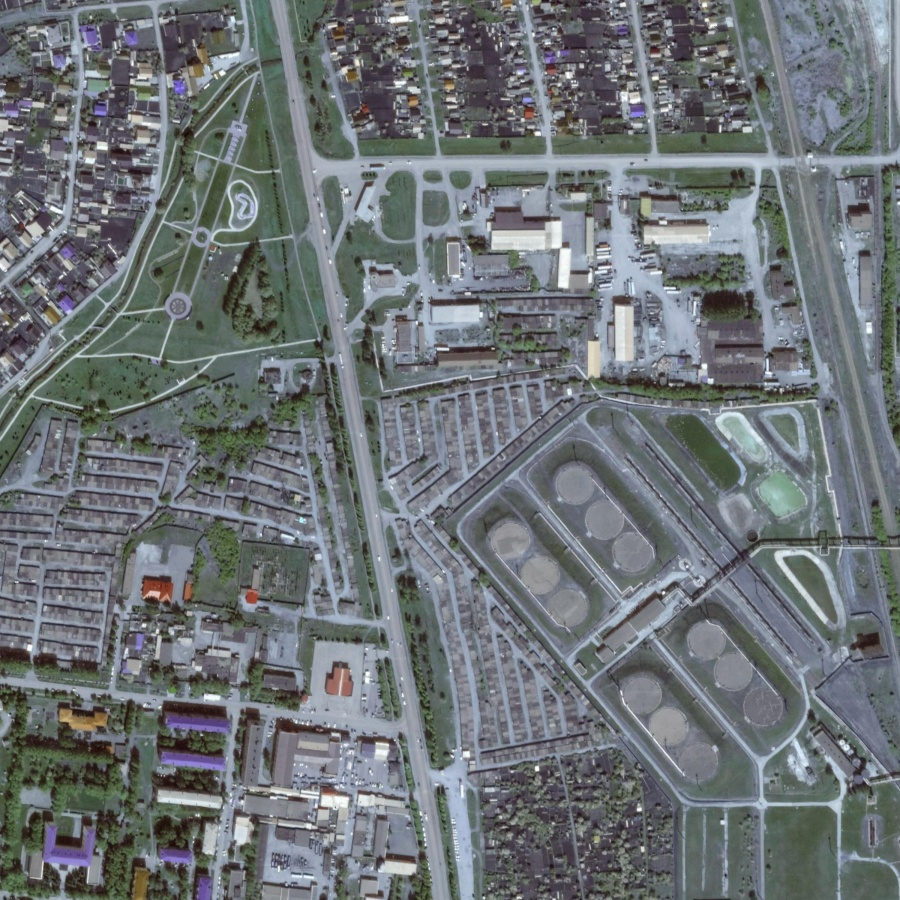PowerPlant: (472, 425, 805, 791)
